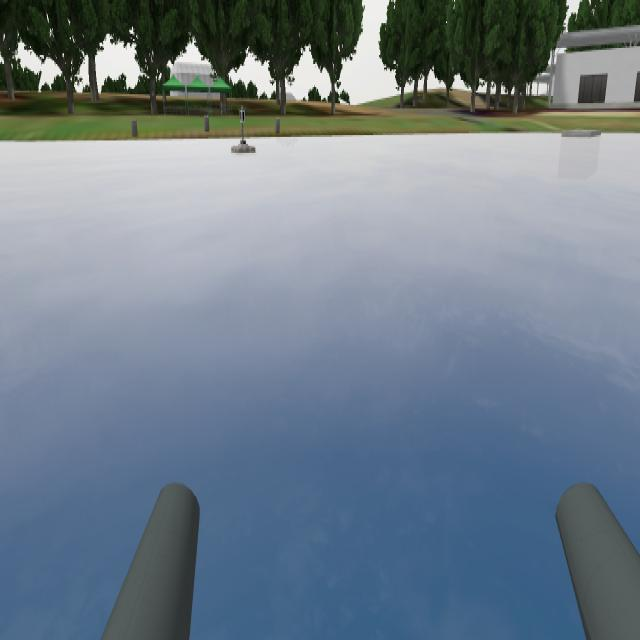post: (238, 106, 246, 126)
